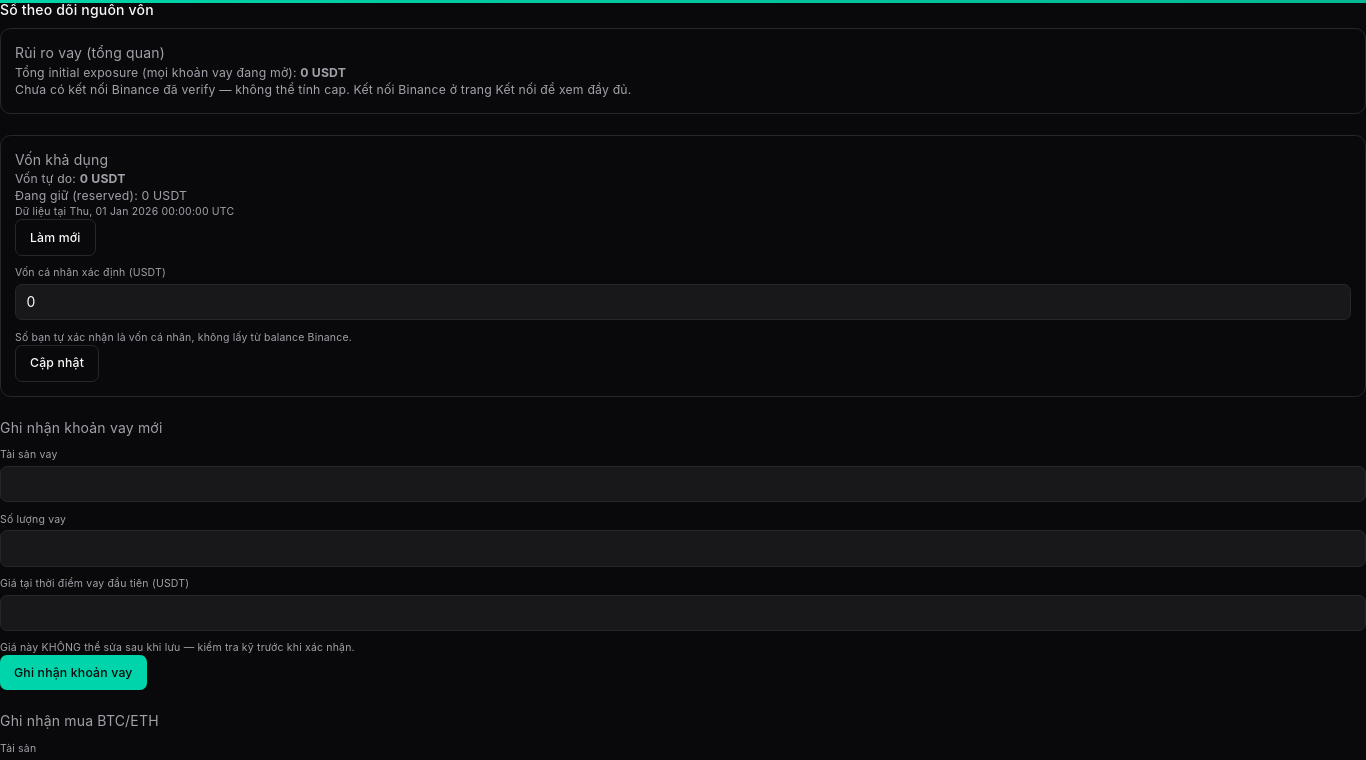
CapitalProvenanceLedgerPage › BR-002: shows the conflict message inline instead of a generic error when a 2nd OPEN position for the same asset is rejected
Type "ZEC" into the field labelled "Tài sản vay" at (683, 484), box [0,466,1365,502]
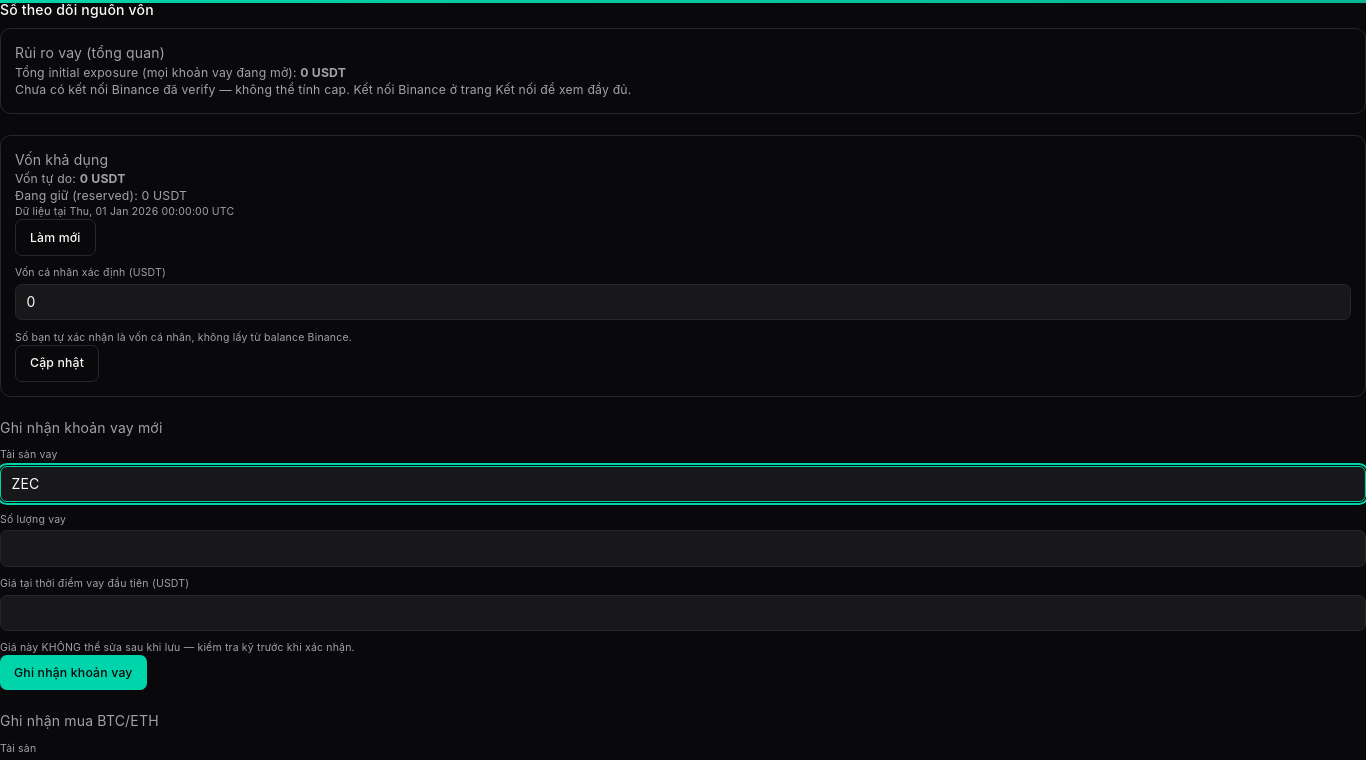
Type "1" into the field labelled "Số lượng vay" at (683, 548), box [0,530,1365,567]
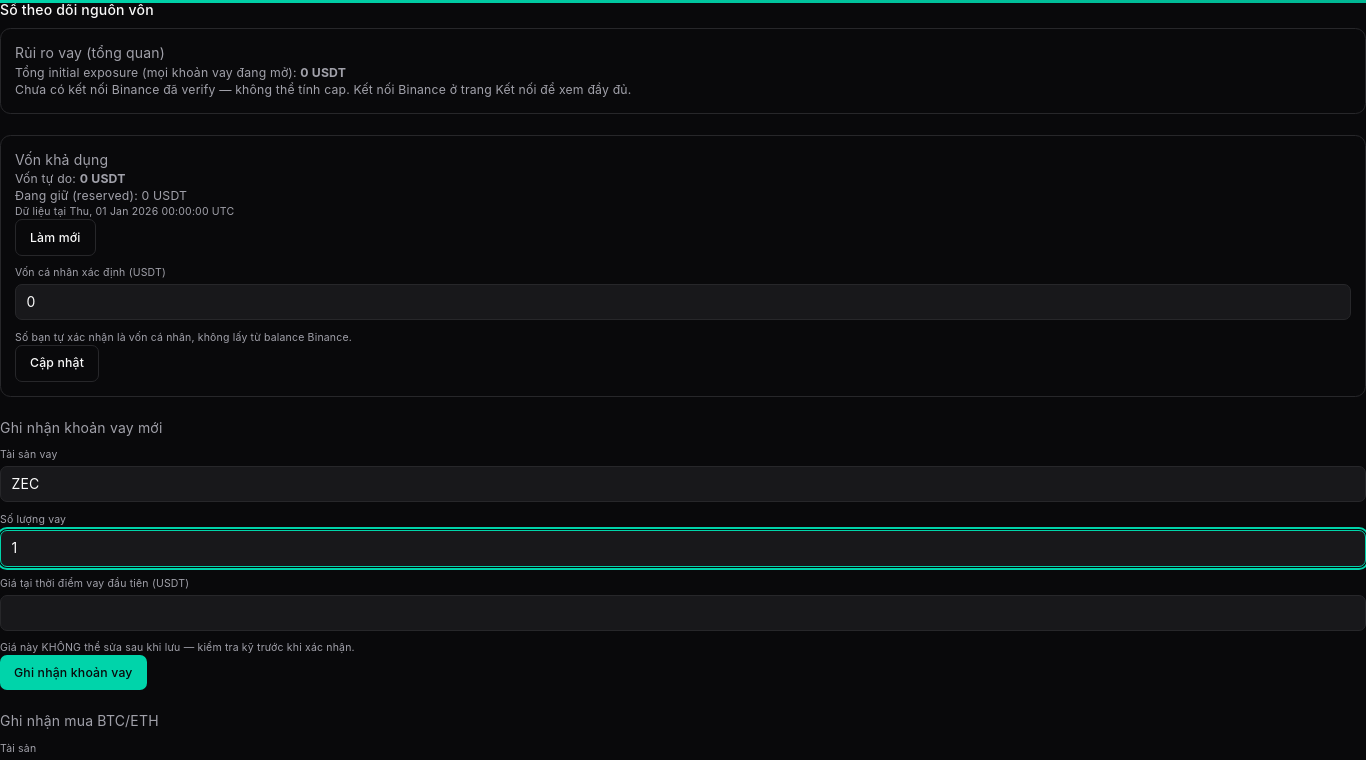
Type "1" into the field labelled "Giá tại thời điểm vay đầu tiên (USDT)" at (683, 613), box [0,595,1365,631]
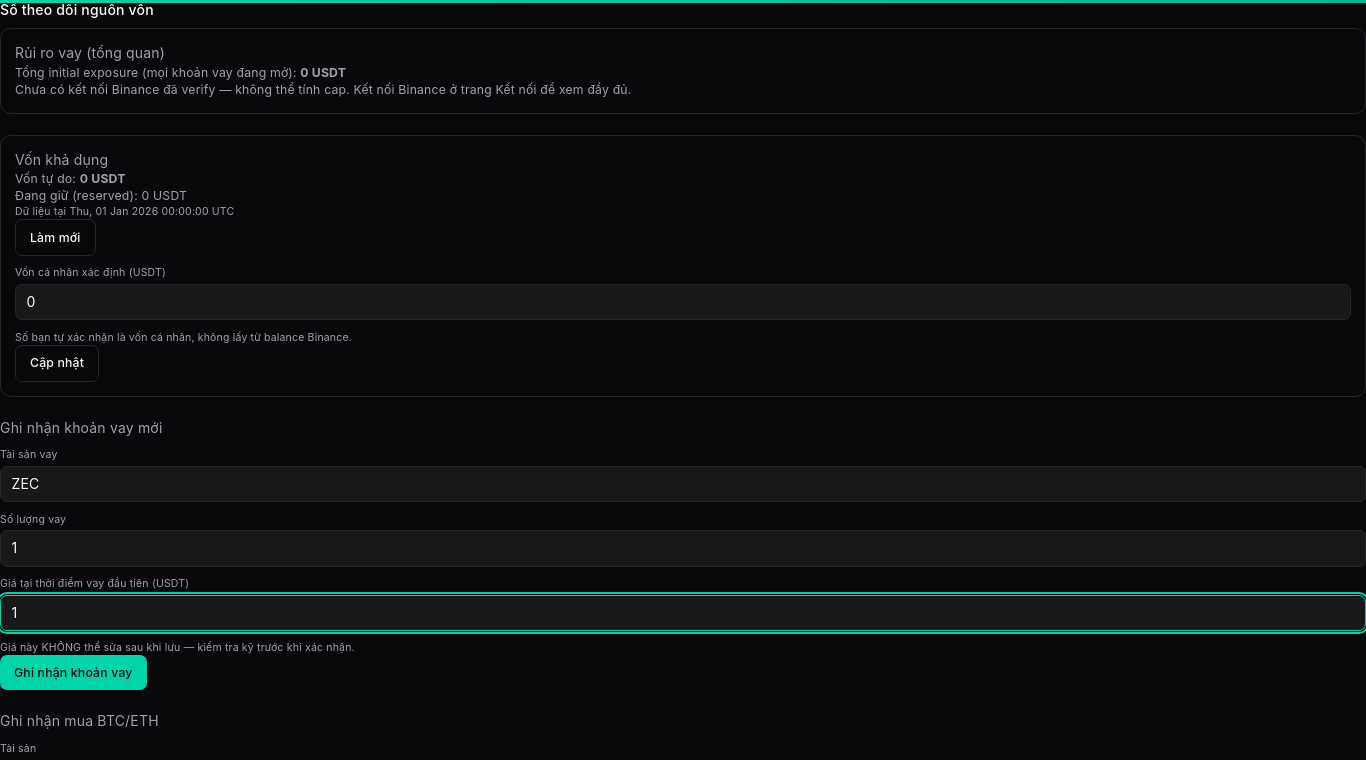
Click the button "Ghi nhận khoản vay" at (73, 673), box [0,655,147,690]
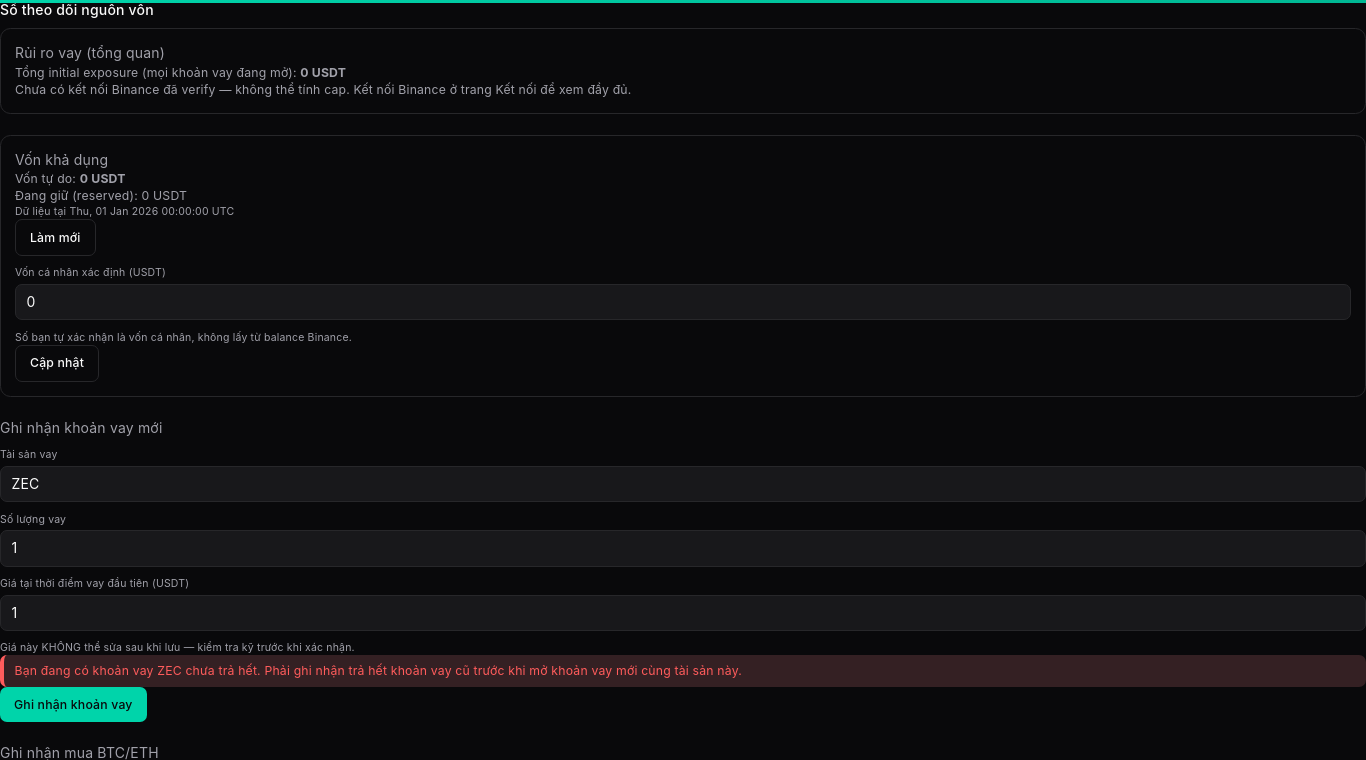
Expected: the text "Bạn đang có khoản vay ZEC chưa trả hết" is shown, [14,663,742,678]
